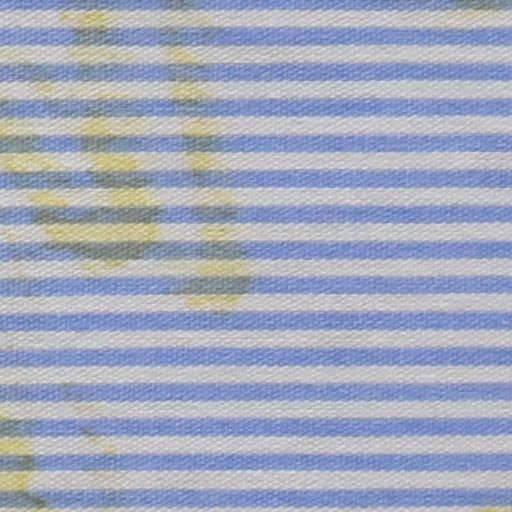defect: (1, 1, 243, 320), (1, 390, 54, 512), (478, 1, 512, 16)
